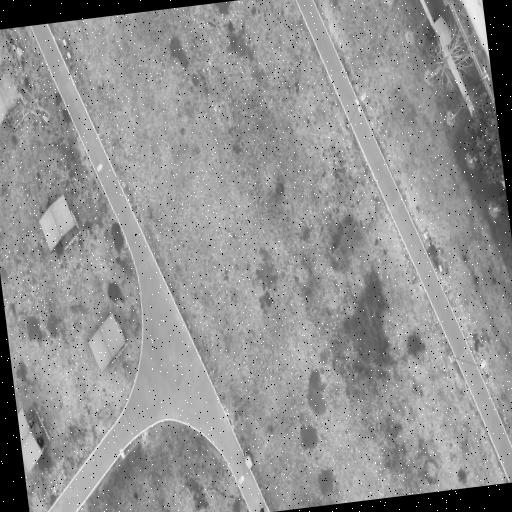person: (37, 437, 42, 448), (27, 420, 32, 429), (259, 505, 263, 511)
